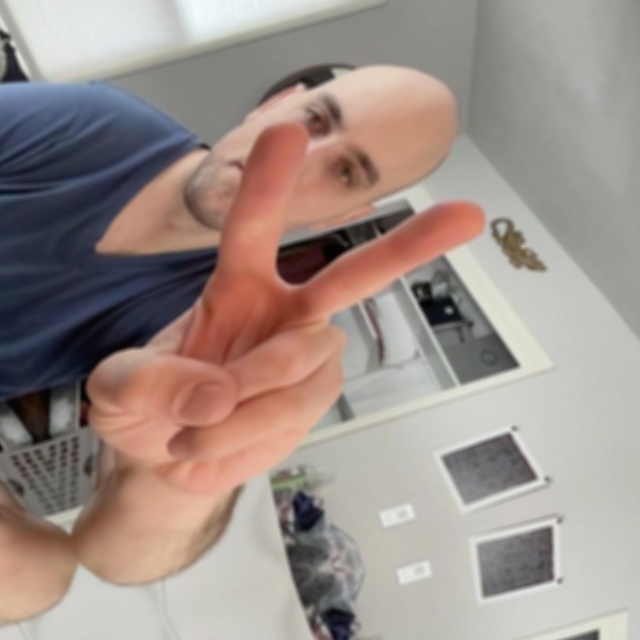Scissors: (17, 68, 550, 526)
